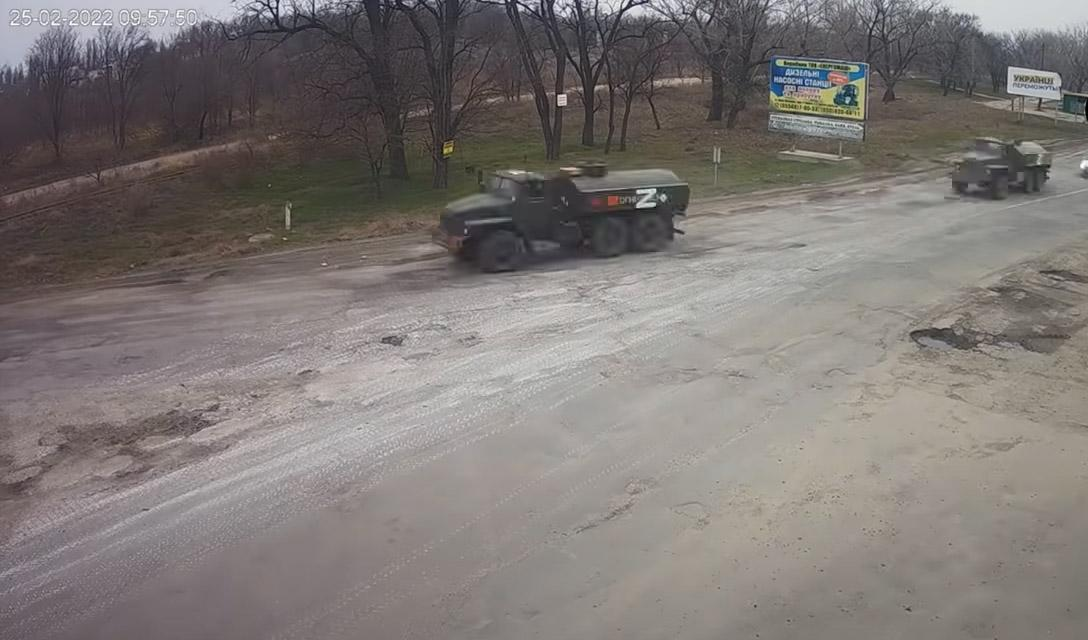truck: (420, 151, 698, 265), (946, 129, 1054, 203)
